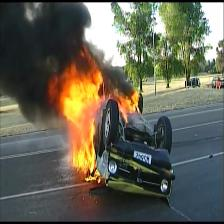fire: (47, 48, 149, 188)
smoke: (2, 8, 122, 86)
